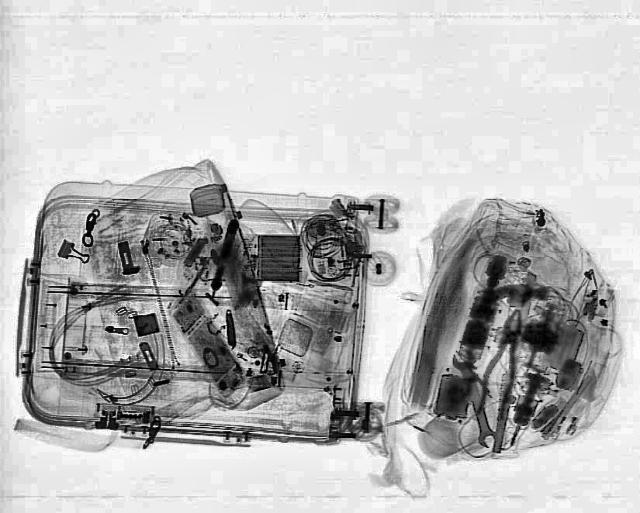Pliers: (474, 308, 532, 418)
Wrench: (447, 348, 503, 448)
